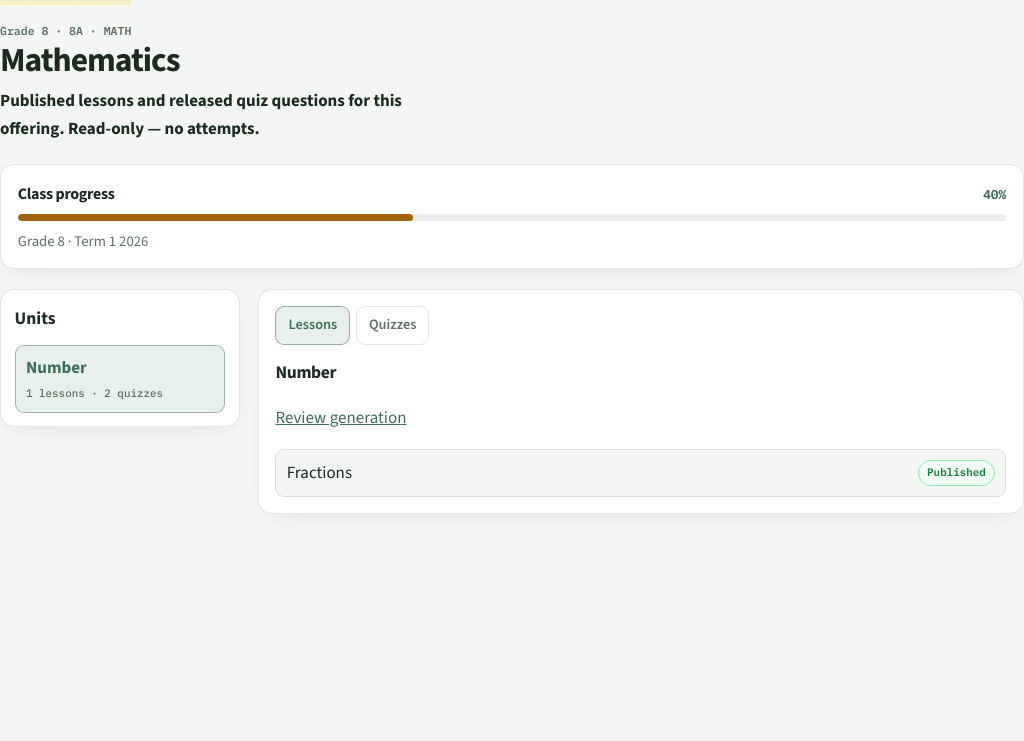
Scenario: SubjectMaterialsPage › shows released quiz questions read-only and does not start an attempt
The width and height of the screenshot is (1024, 741).
Expected: the heading "Mathematics" is shown, [0, 37, 180, 82]
Click the tab "Quizzes": (393, 325) [356, 306, 430, 345]
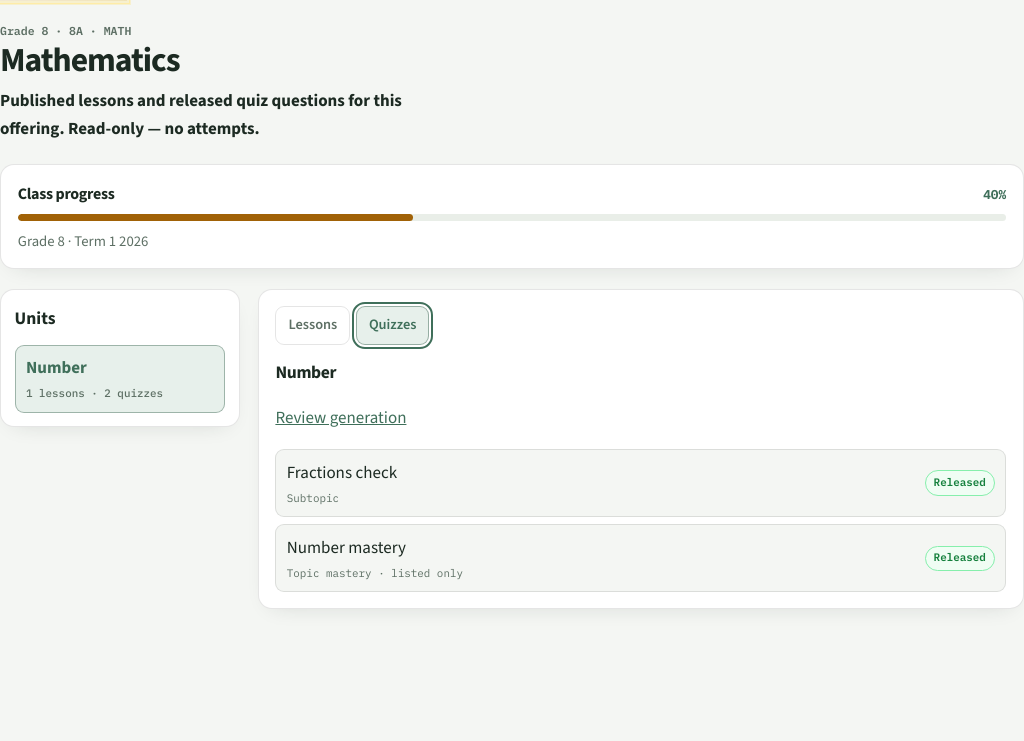
Click the button "Fractions check Subtopic Released": (342, 473) [275, 449, 1006, 517]
(page scrolled)
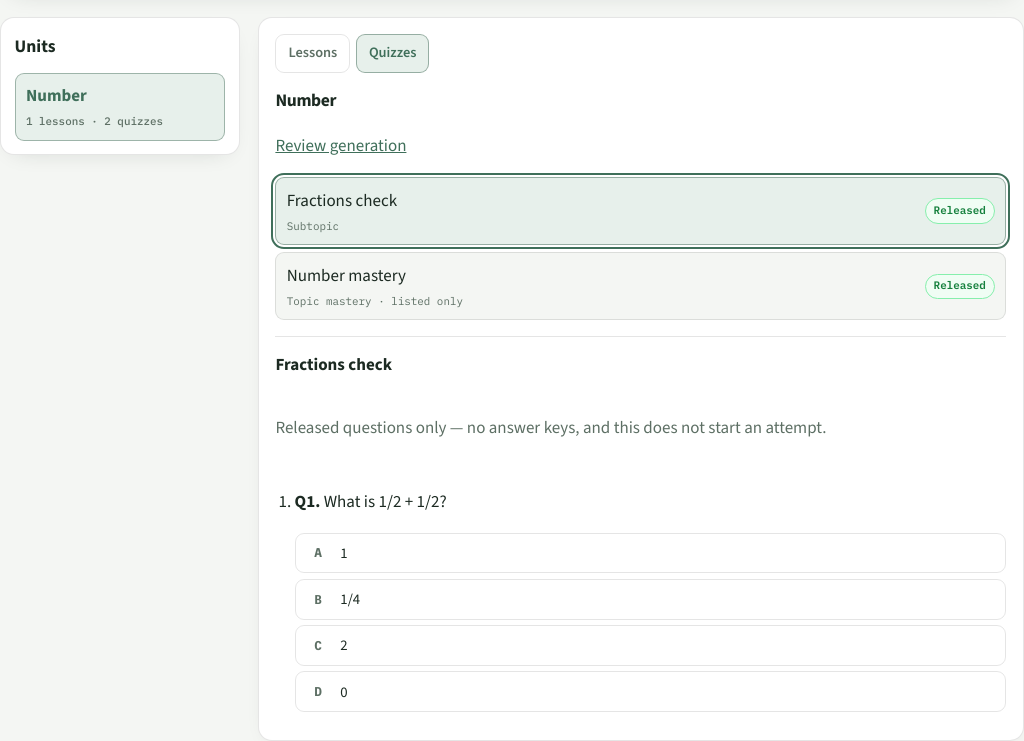
Expected: the text "What is 1/2 + 1/2?" is shown, [324, 490, 447, 513]
Expected: the text "1" is shown, [340, 543, 348, 563]
